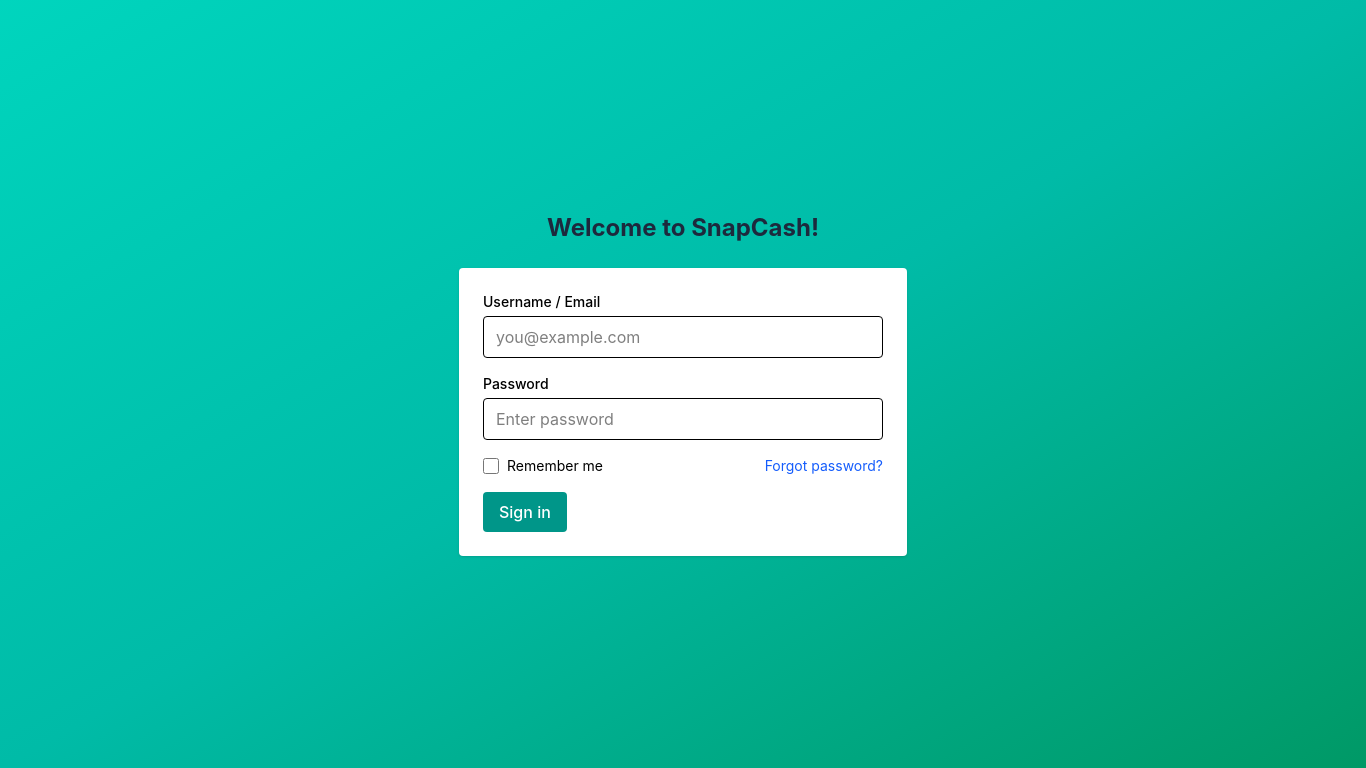
Test case: DaftarPembayaran functional flow › logs in and renders daftar pembayaran rows
This screenshot has width=1366, height=768.
Step 1. Type "usertest01" into the field with placeholder "you@example.com" → (683, 337), box [483, 316, 883, 358]
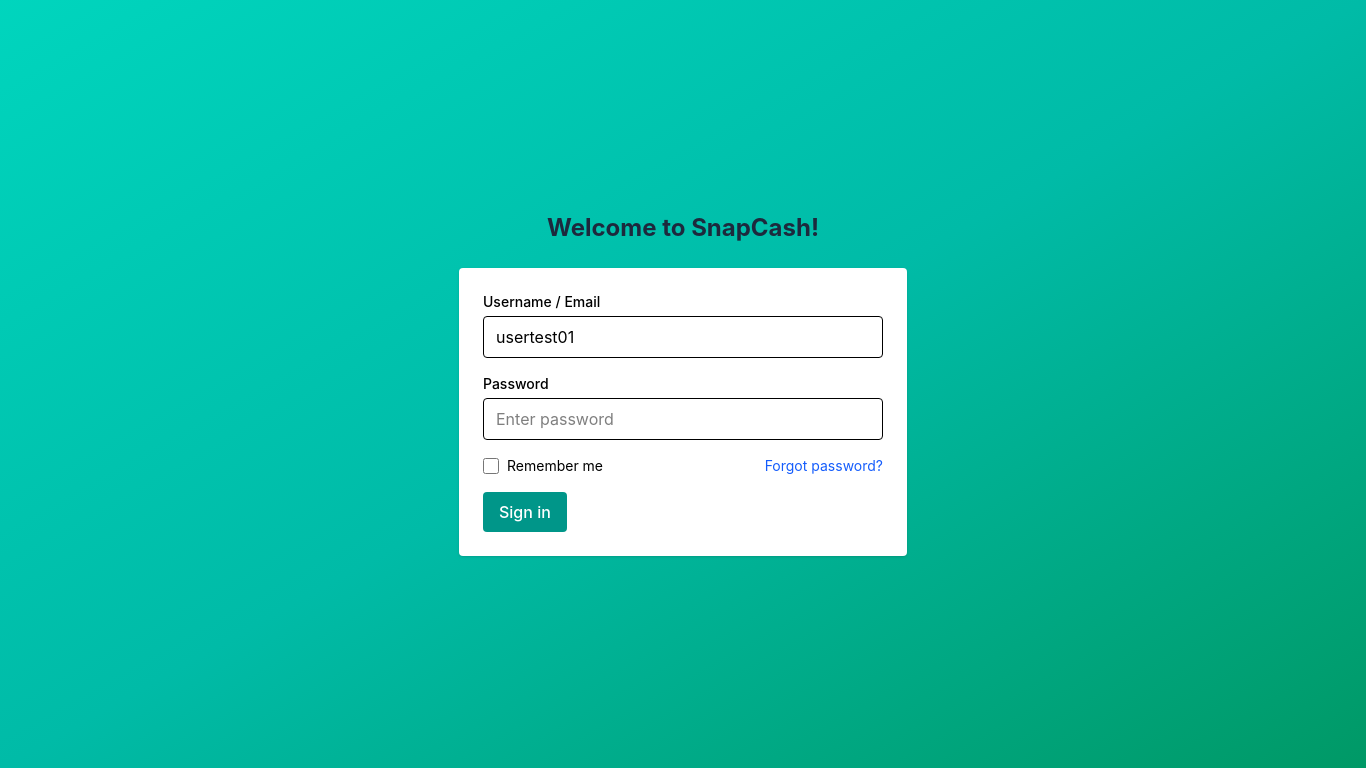
Step 2. Type "test123" into the password field with placeholder "Enter password" → (683, 419), box [483, 398, 883, 440]
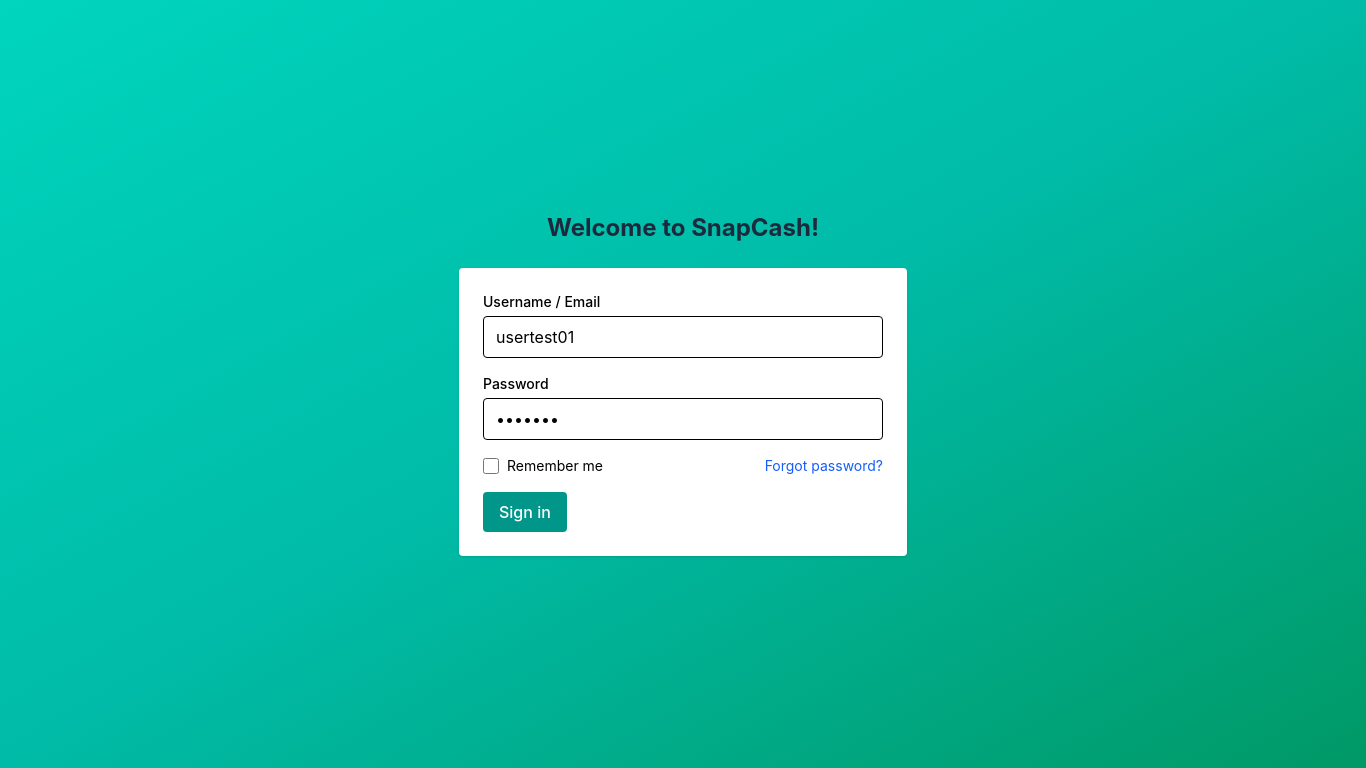
Step 3. Click the button "Sign in" → (525, 512), box [483, 492, 567, 532]
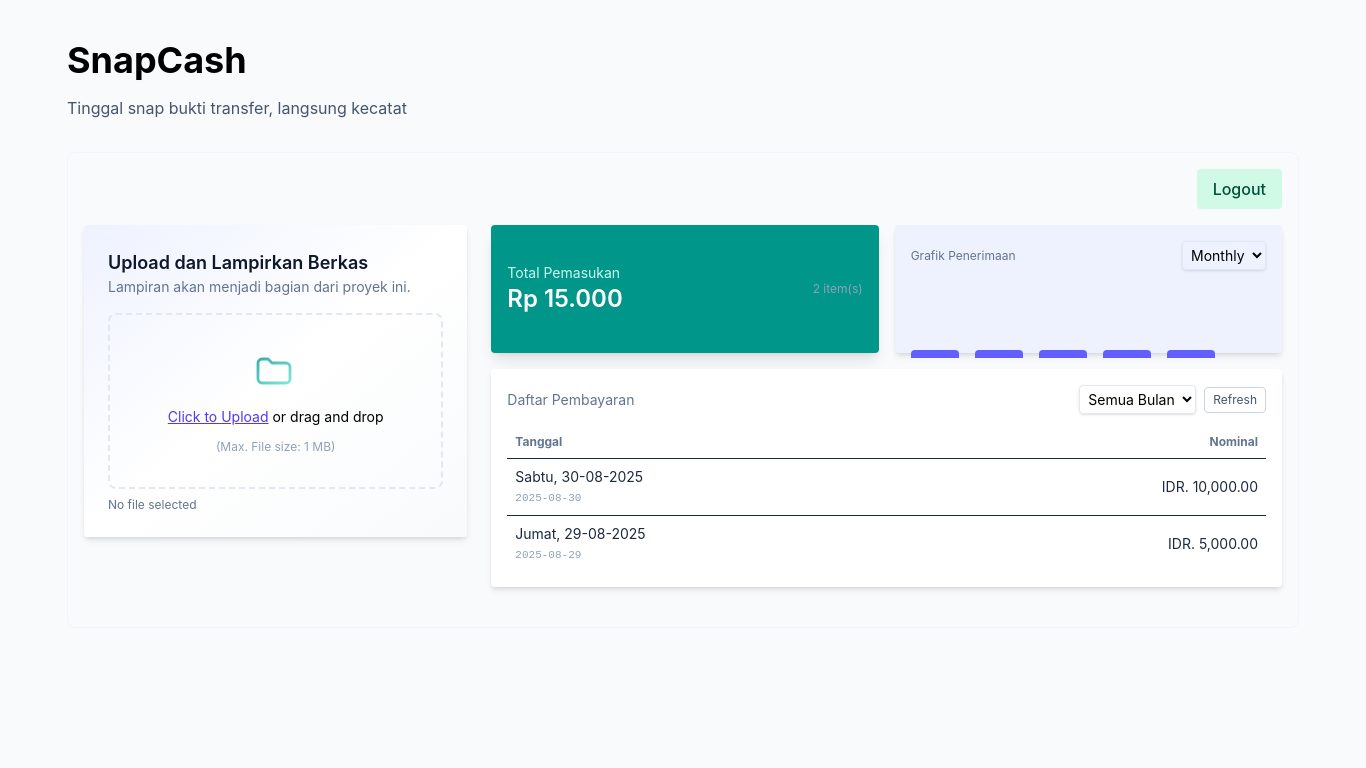
Result: the text "30-08-2025" is shown at [515, 468, 643, 485]
Result: the text "29-08-2025" is shown at [515, 525, 646, 542]
